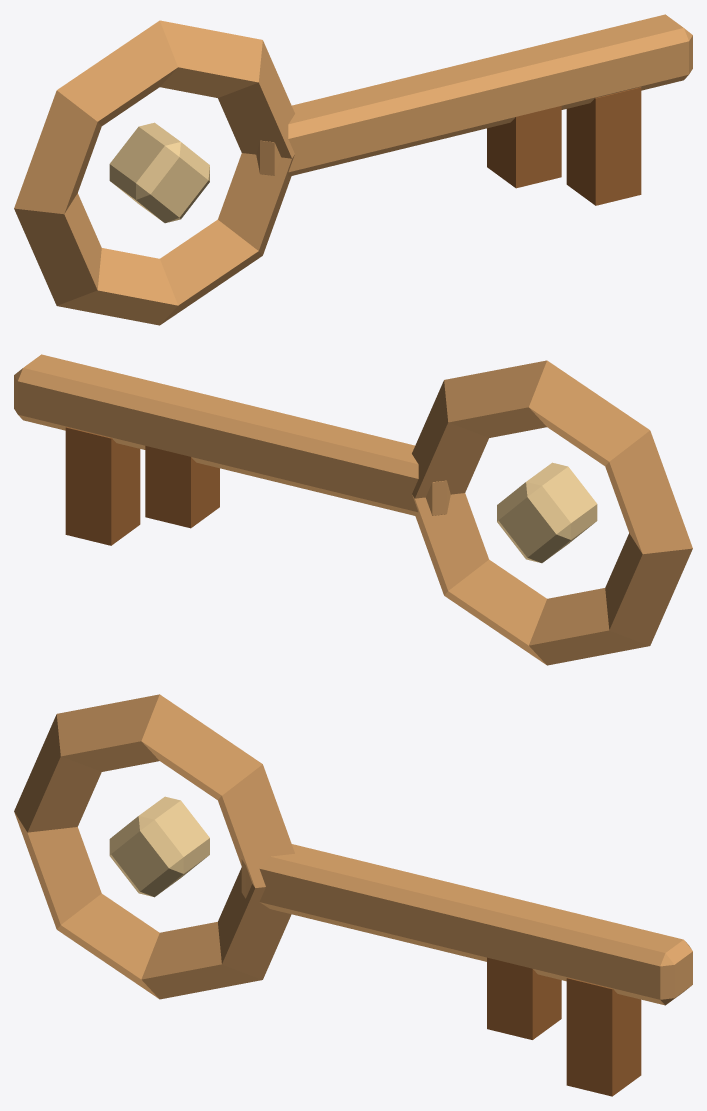
The model's file is WoodKey.fbx.
3 renders of one model, top to bottom at view 1: azimuth 30°, elevation 25°; view 2: azimuth 150°, elevation 25°; view 3: azimuth 330°, elevation 25°, orthographic.
Visible parts, largest first — view 1: WoodKey; view 2: WoodKey; view 3: WoodKey.
Boxes of the visible parts, <box> form: WoodKey: <box>14,14,692,325</box>; WoodKey: <box>14,354,692,665</box>; WoodKey: <box>14,694,692,1096</box>.
Bounding box in the file's own units: 2.94 × 1.28 × 0.3.
1 material, 1 textured.
